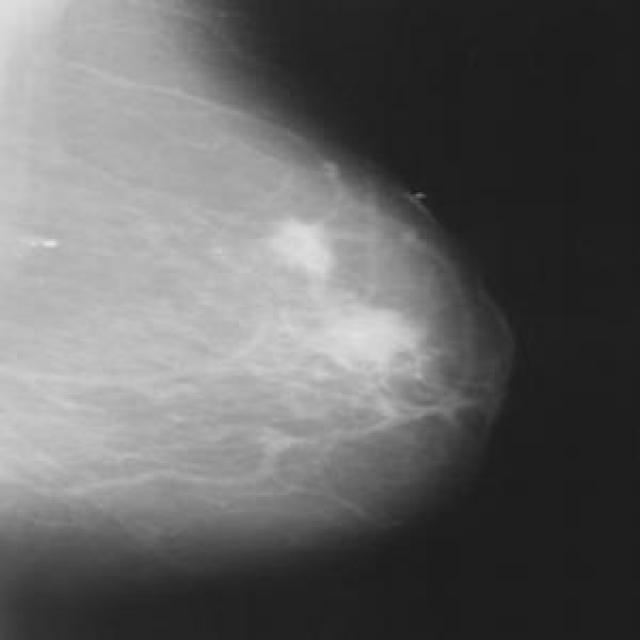tumor: (254, 204, 446, 441)
